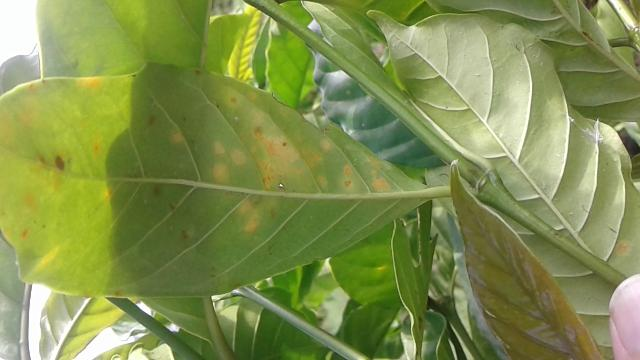rust_level_2: (0, 58, 428, 292)
